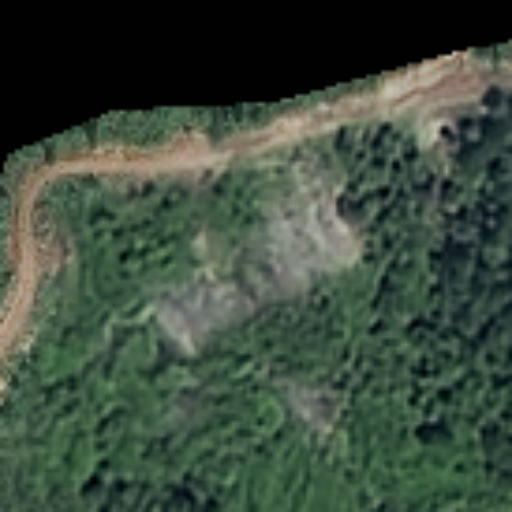landslide: (154, 173, 356, 348)
